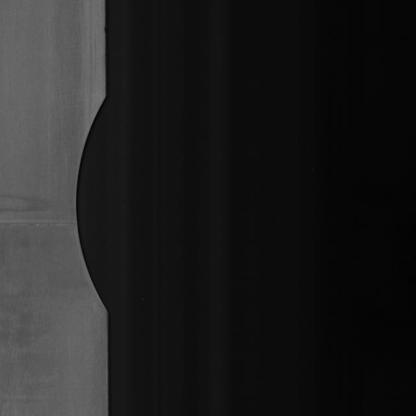crescent_gap: (66, 89, 138, 330)
welding_line: (1, 202, 88, 242)
